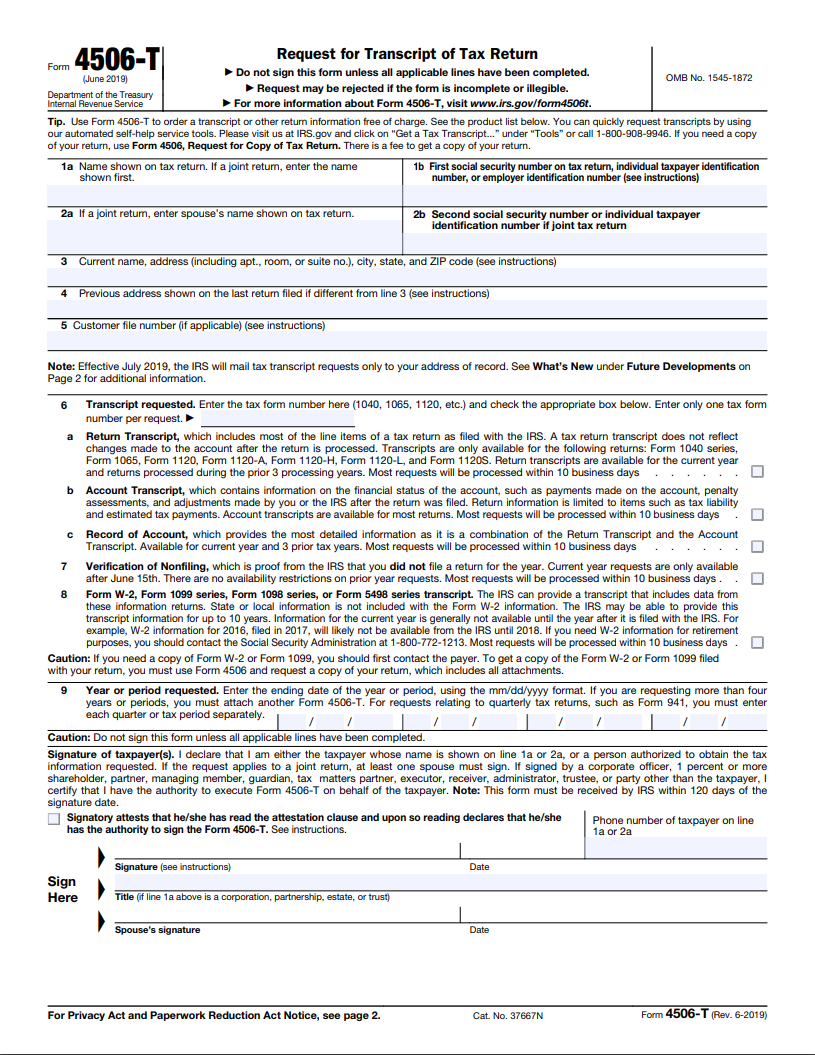checkbox: (749, 462, 765, 479), (749, 506, 765, 523), (748, 538, 764, 555), (749, 569, 765, 586), (749, 633, 765, 650), (45, 810, 61, 827)
textbox: (45, 250, 772, 288), (41, 284, 768, 322), (41, 315, 768, 353), (43, 154, 406, 211), (42, 201, 405, 258), (398, 156, 770, 210), (399, 203, 771, 257), (583, 811, 764, 862)
textline: (114, 870, 764, 893), (111, 902, 463, 925), (113, 840, 464, 863), (456, 903, 770, 925), (199, 408, 357, 429), (272, 710, 406, 731), (397, 711, 531, 732), (522, 712, 656, 733), (457, 840, 588, 861), (645, 712, 768, 733)
